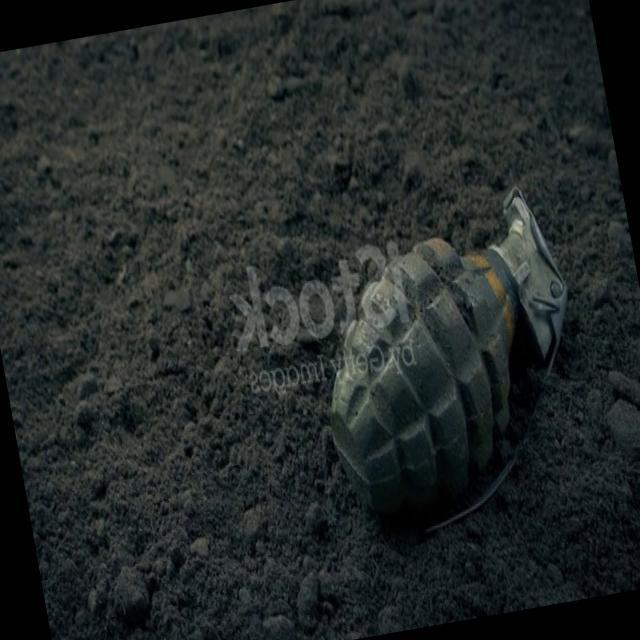grenade: (294, 183, 602, 549)
